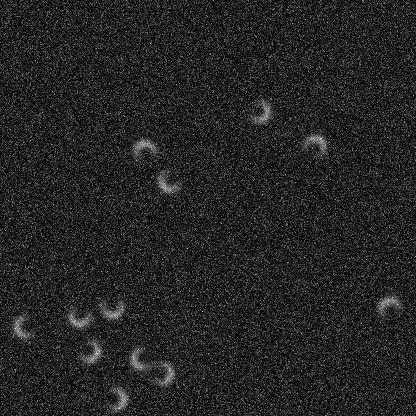Janus: (97, 290, 127, 320), (99, 383, 129, 413), (155, 165, 185, 195), (146, 358, 176, 388), (374, 294, 404, 324), (64, 299, 94, 329), (10, 311, 40, 341), (129, 137, 159, 167), (243, 95, 273, 125), (299, 132, 329, 162), (73, 335, 103, 365), (127, 343, 157, 373)
